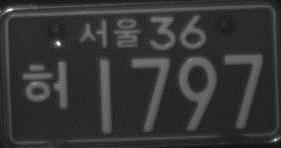1: (96, 56, 118, 132)
3: (148, 14, 175, 49)
6: (178, 13, 206, 50)
7: (129, 55, 173, 133), (222, 52, 265, 131)
9: (178, 54, 219, 134)
서울_O: (78, 16, 142, 51)
허: (22, 57, 68, 110)
